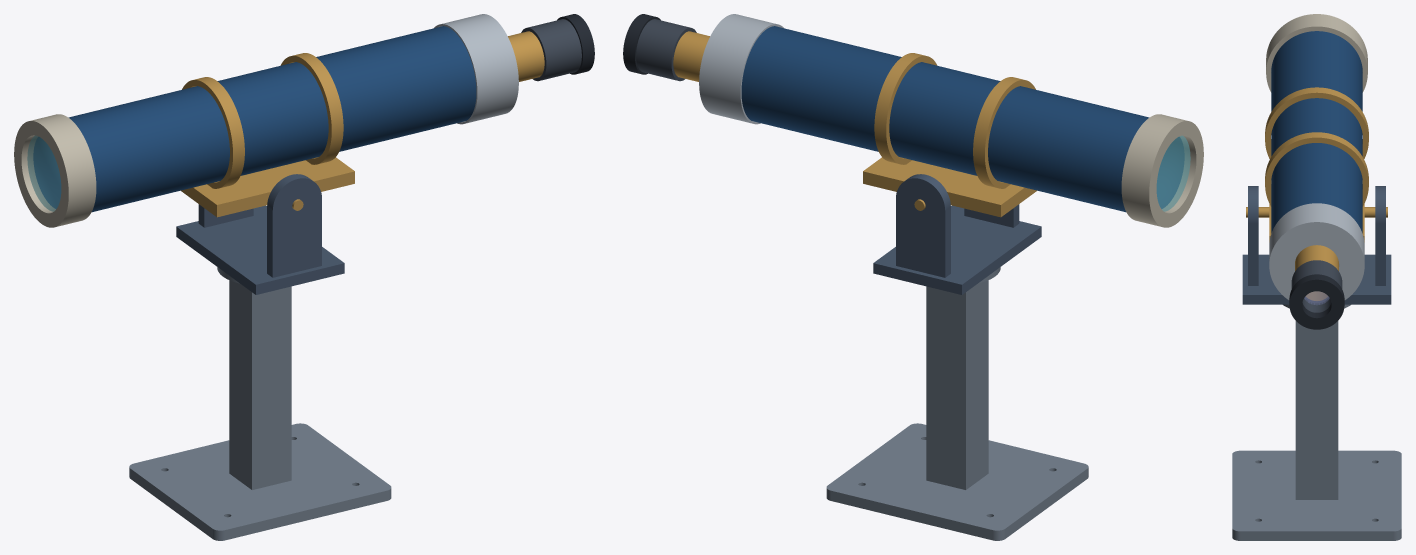
Rendered from telescope_assembly.glb.
3 renders of one model, left to right at view 1: azimuth 30°, elevation 25°; view 2: azimuth 150°, elevation 25°; view 3: azimuth 270°, elevation 25°, orthographic. The views are drawn at different scales.
Visible parts, largest first — view 1: telescope_assembly (×10); view 2: telescope_assembly (×10); view 3: telescope_assembly (×10).
Boxes of the visible parts, x1=… form: telescope_assembly (×10): x1=14, y1=14, x2=594, y2=540; telescope_assembly (×10): x1=623, y1=14, x2=1203, y2=540; telescope_assembly (×10): x1=1232, y1=14, x2=1401, y2=540.
Size of the model in its own units: 0.546 by 0.404 by 0.16.
